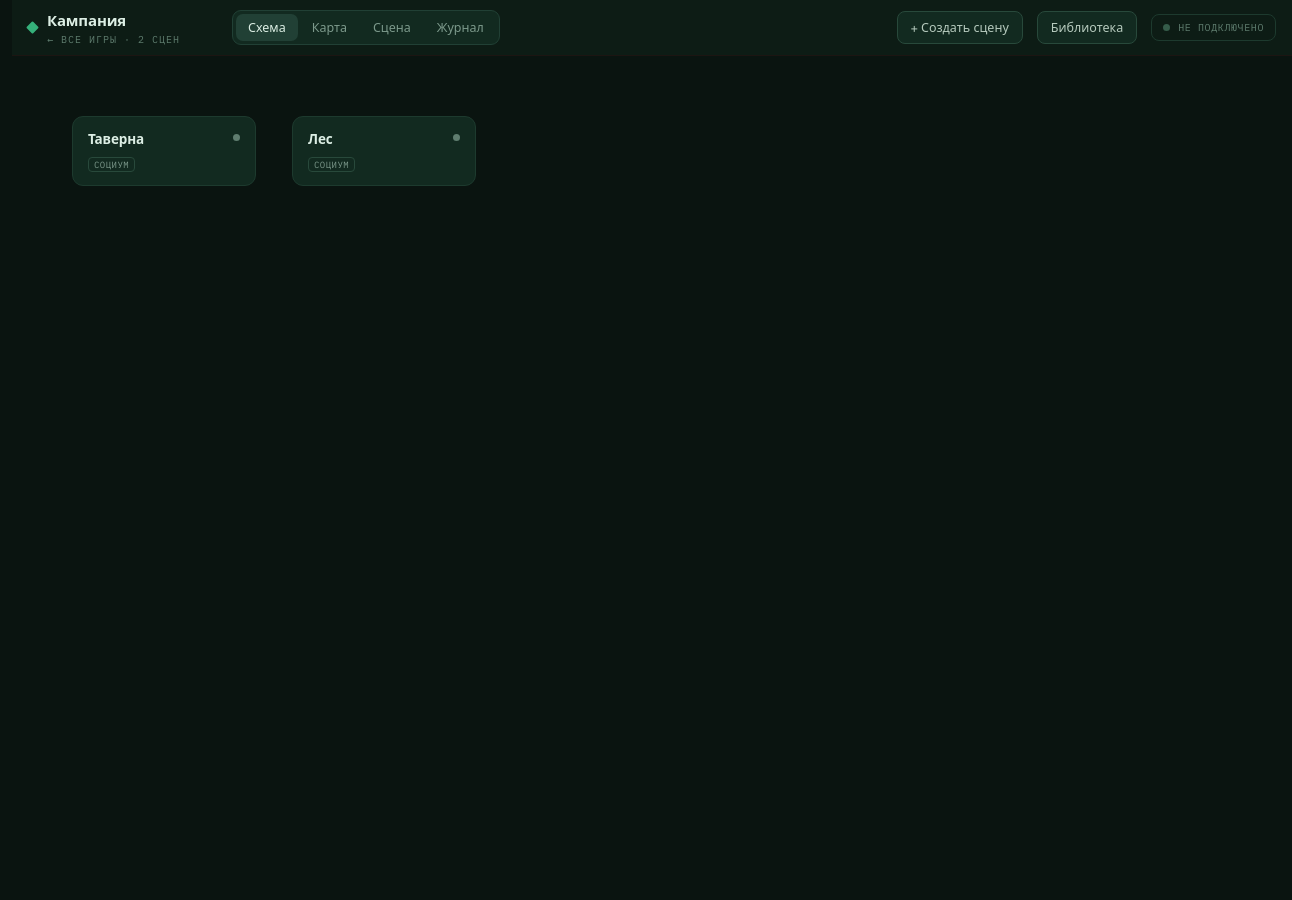
MasterView › смена сцены сбрасывает черновик описания
This screenshot has width=1292, height=900.
Click the element with class "node" showing "Таверна Социум". click: [164, 151]
box: 72,116 -> 256,186
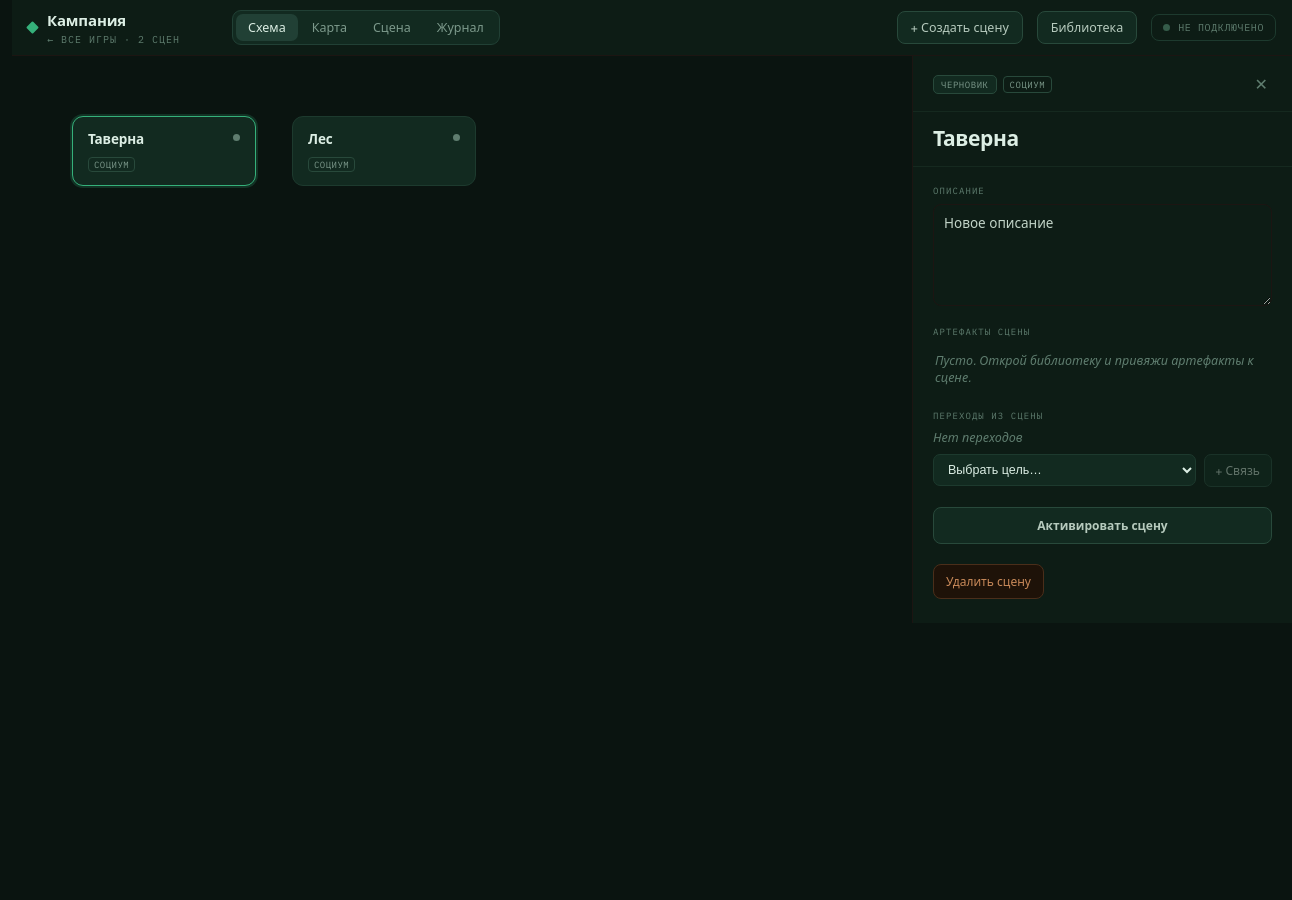
Replace the text in the text box with class "insp-summary-input" with "Черновик". click: [1102, 255]
box: 933,204 -> 1272,306
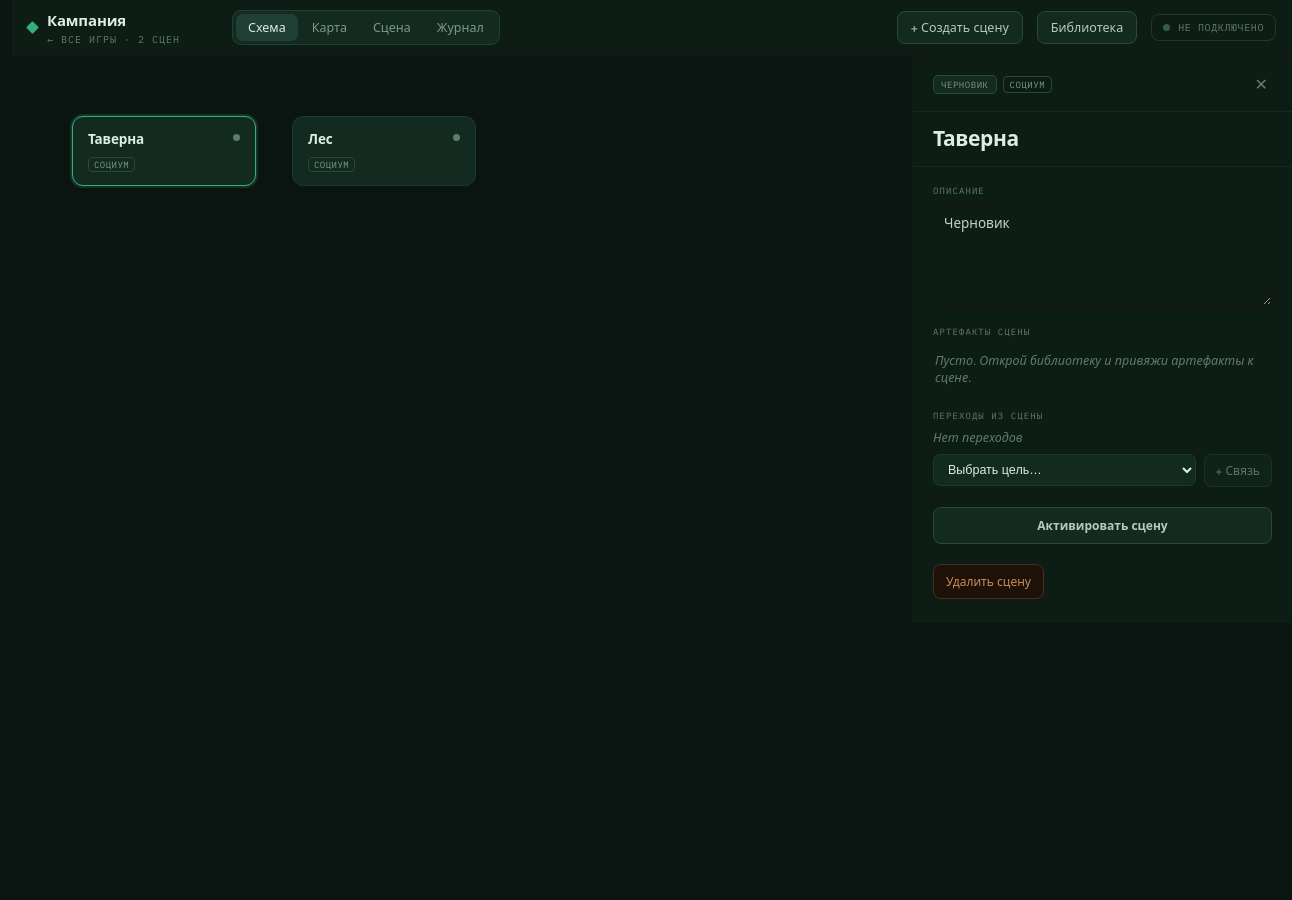
Click the element with class "node" showing "Лес Социум". click: [384, 151]
box: 292,116 -> 476,186
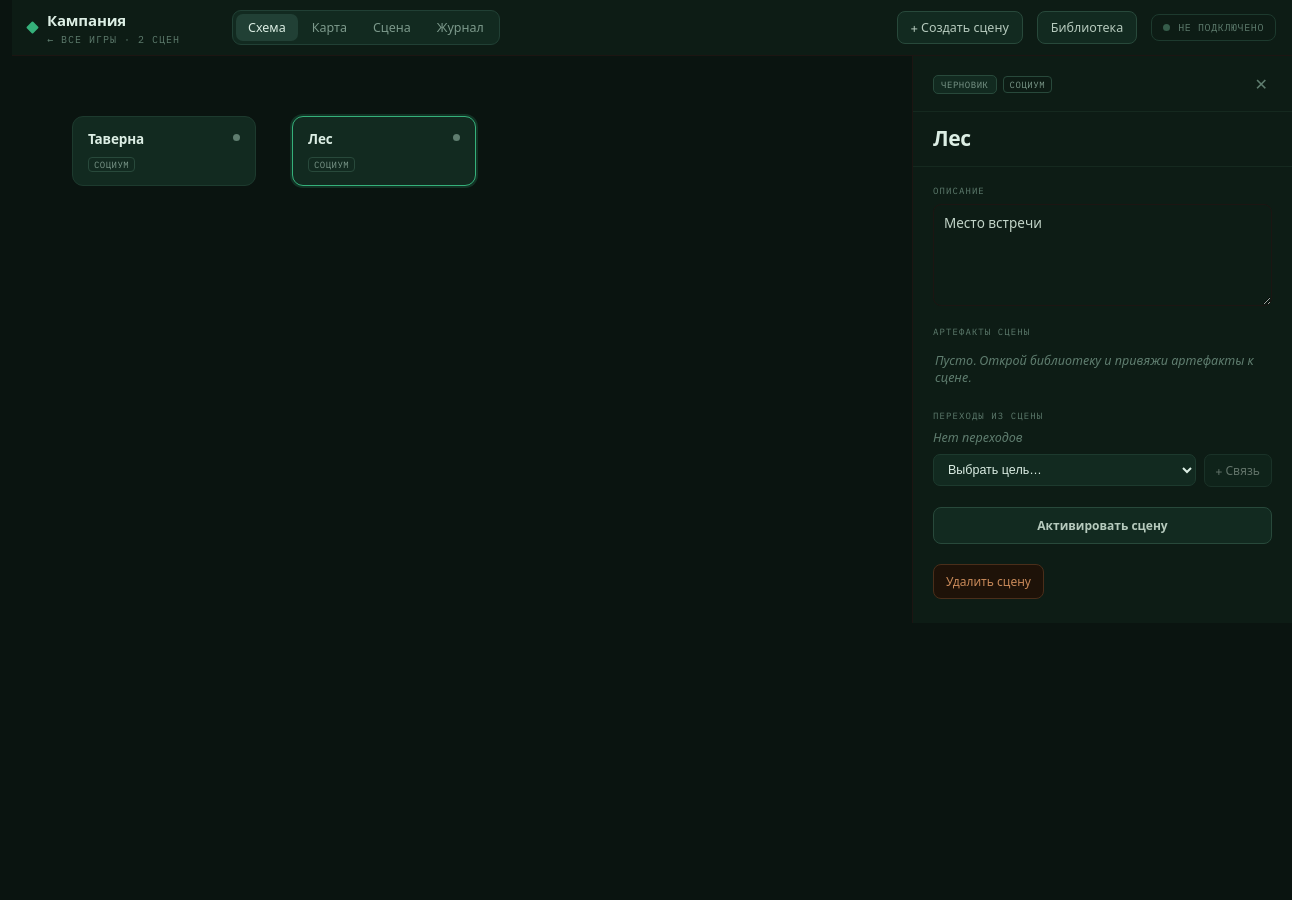
Now the text box with class "insp-summary-input" holds "Место встречи", box 933,204 -> 1272,306
